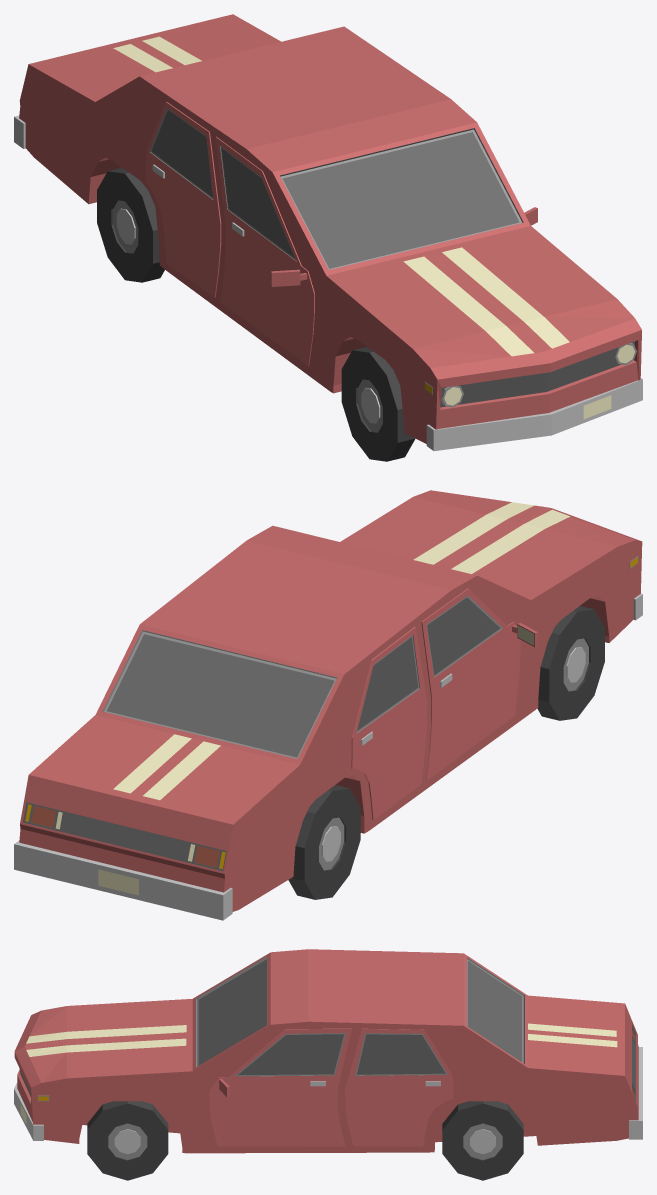
Rendered from Sports car_1.fbx.
3 renders of one model, top to bottom at view 1: azimuth 30°, elevation 25°; view 2: azimuth 150°, elevation 25°; view 3: azimuth 270°, elevation 25°, orthographic. The views are drawn at different scales.
Visible parts, largest first — view 1: trhh, Cylinder_2_1, Cylinder_2_3; view 2: trhh, Cylinder_2_3, Cylinder_2_1; view 3: trhh, Cylinder_2_2, Cylinder_2.
Boxes of the visible parts, bbox=[...] form: trhh: bbox=[14, 14, 642, 451]; Cylinder_2_1: bbox=[341, 347, 415, 461]; Cylinder_2_3: bbox=[97, 168, 164, 282]; trhh: bbox=[14, 490, 642, 920]; Cylinder_2_3: bbox=[288, 785, 360, 899]; Cylinder_2_1: bbox=[537, 606, 604, 720]; trhh: bbox=[14, 949, 642, 1153]; Cylinder_2_2: bbox=[442, 1101, 523, 1180]; Cylinder_2: bbox=[87, 1101, 168, 1180].
Bounding box in the file's own units: 169 × 133 × 477.
